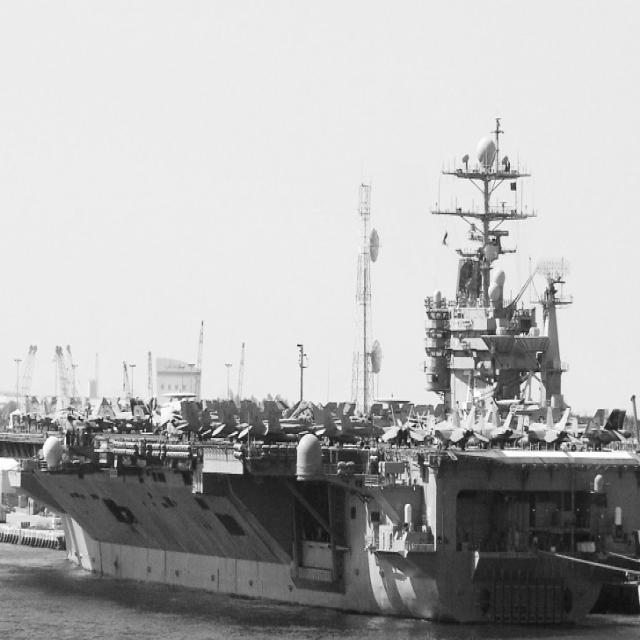Portanaves: (1, 111, 640, 640)
